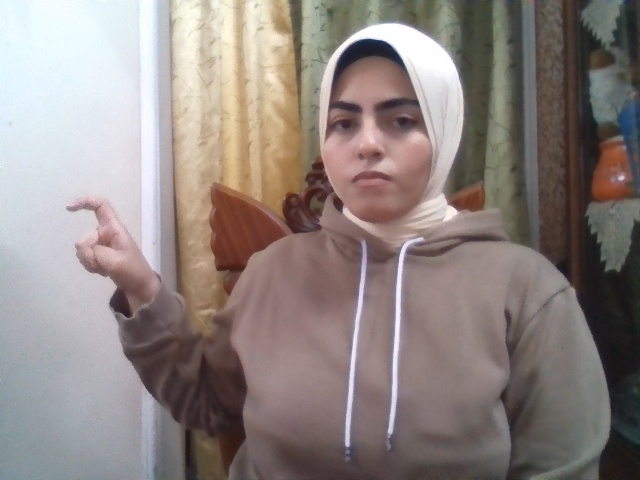X: (67, 195, 152, 293)
